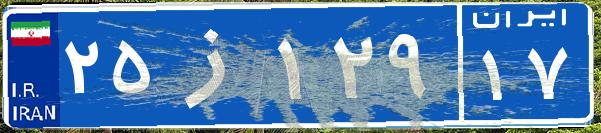1: (273, 28, 330, 110), (475, 38, 525, 113)
2: (330, 28, 385, 110), (57, 26, 110, 107)
5: (110, 28, 158, 105)
7: (525, 38, 570, 115)
9: (385, 28, 445, 110)
ز: (158, 15, 273, 115)
